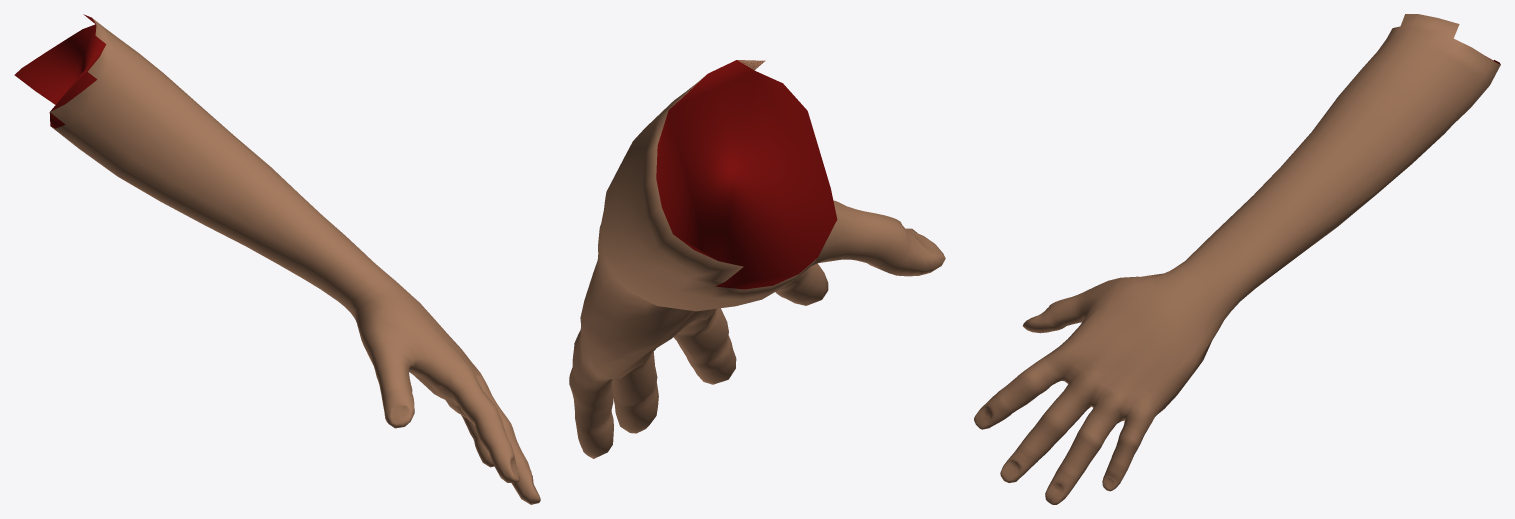
The model's file is SM_Part_M1_arm_l.gltf.
3 renders of one model, left to right at view 1: azimuth 30°, elevation 25°; view 2: azimuth 150°, elevation 25°; view 3: azimuth 270°, elevation 25°, orthographic. The views are drawn at different scales.
Visible parts, largest first — view 1: SM_Part_M1_arm_l; view 2: SM_Part_M1_arm_l; view 3: SM_Part_M1_arm_l.
Boxes of the visible parts, <box> form: SM_Part_M1_arm_l: <box>14,14,540,504</box>; SM_Part_M1_arm_l: <box>569,60,945,458</box>; SM_Part_M1_arm_l: <box>974,14,1500,504</box>.
Size of the model in its own units: 0.2502 by 0.3135 by 0.3985.
